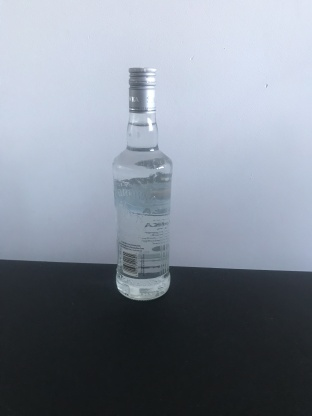nakretka: (127, 65, 158, 114)
